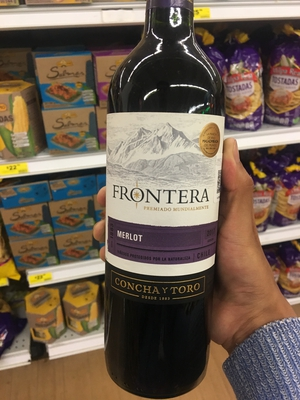frontera merlot: (90, 20, 238, 376)
